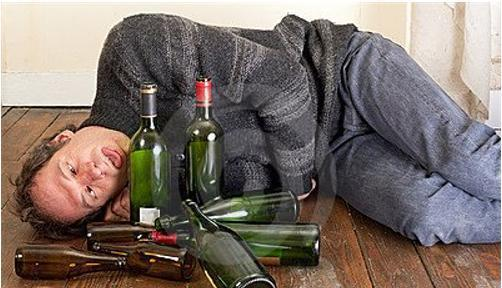Drunk: (38, 133, 129, 212)
